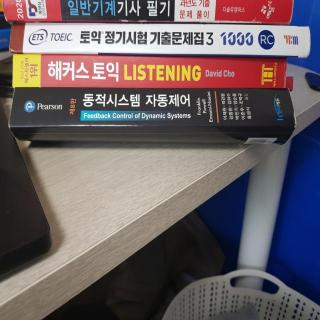book-spine: (12, 53, 287, 93), (10, 88, 296, 126), (8, 23, 310, 57), (2, 0, 294, 26)
